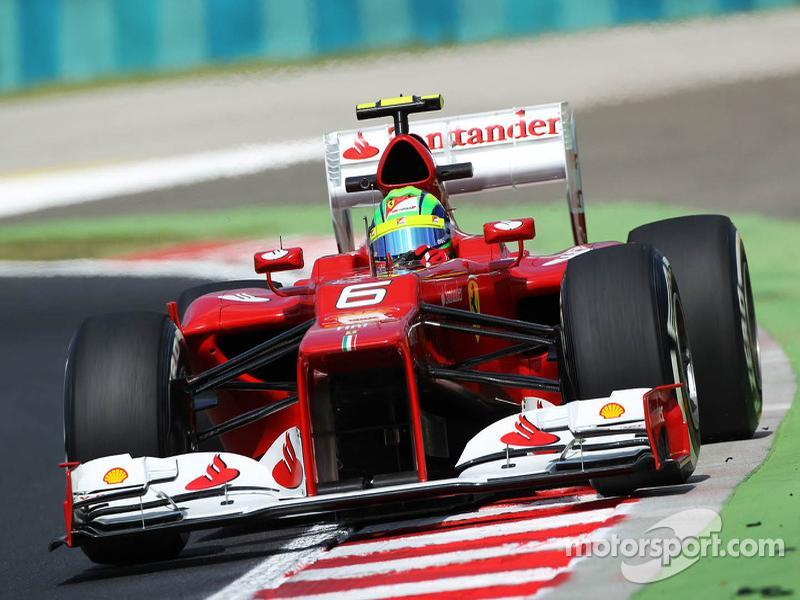f1: (65, 82, 763, 535)
